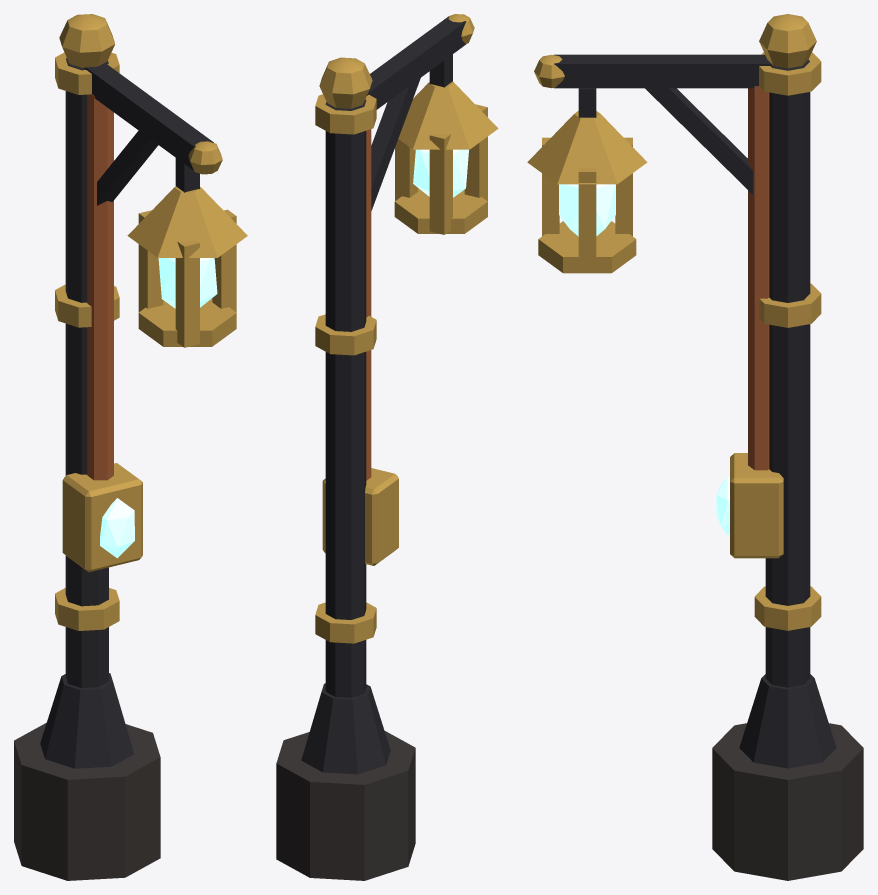
The model's file is LampiaoRua.fbx.
3 views of the same model, side by side, from view 1: azimuth 30°, elevation 25°; view 2: azimuth 150°, elevation 25°; view 3: azimuth 270°, elevation 25° (orthographic). The views are drawn at different scales.
Parts seen in each view (by area): view 1: Corpo, Lanterna, CristalPulso; view 2: Corpo, Lanterna; view 3: Corpo, Lanterna.
Part boxes in pixels (x1,y1,x2,y2): Corpo: [14, 14, 222, 880]; Lanterna: [127, 158, 247, 347]; CristalPulso: [100, 498, 134, 558]; Corpo: [276, 14, 474, 880]; Lanterna: [394, 54, 498, 234]; Corpo: [534, 14, 863, 880]; Lanterna: [527, 88, 647, 273].
Bounding box in the file's own units: 0.68 × 4.13 × 1.51.
